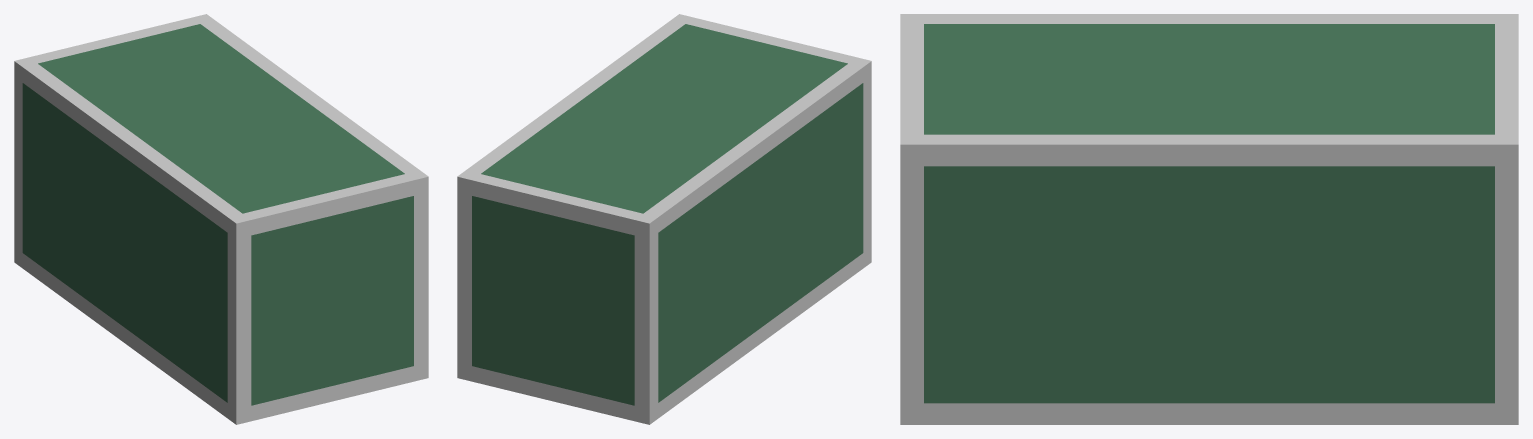
File: cargo_01.fbx
3 views of the same model, side by side, from view 1: azimuth 30°, elevation 25°; view 2: azimuth 150°, elevation 25°; view 3: azimuth 270°, elevation 25° (orthographic). The views are drawn at different scales.
Parts seen in each view (by area): view 1: cargo_01; view 2: cargo_01; view 3: cargo_01.
Part boxes in pixels (x1=…): cargo_01: x1=14, y1=14, x2=428, y2=424; cargo_01: x1=457, y1=14, x2=871, y2=424; cargo_01: x1=900, y1=14, x2=1518, y2=424.
Size of the model in its own units: 130 by 130 by 259.
